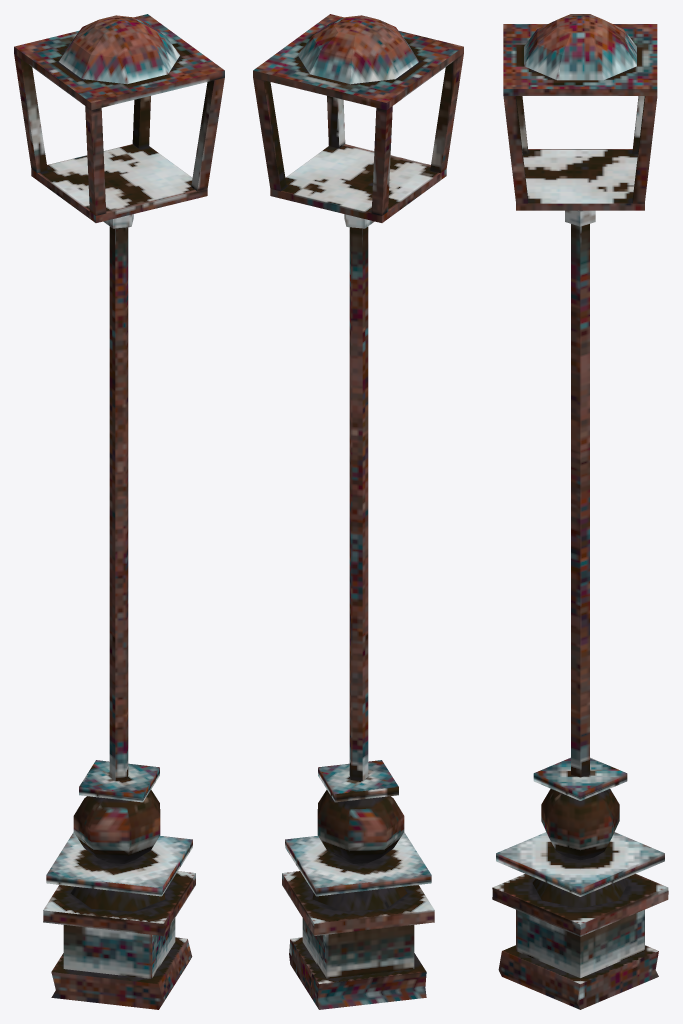
File: poste.glb
3 views of the same model, side by side, from view 1: azimuth 30°, elevation 25°; view 2: azimuth 150°, elevation 25°; view 3: azimuth 270°, elevation 25° (orthographic).
Parts seen in each view (by area): view 1: post_geo; view 2: post_geo; view 3: post_geo.
Part boxes in pixels (x1=…): post_geo: x1=14, y1=14, x2=224, y2=1009; post_geo: x1=253, y1=14, x2=463, y2=1009; post_geo: x1=492, y1=14, x2=668, y2=1009.
Bounding box in the file's own units: 0.4815 × 2.89 × 0.4815.
Materials: 1 (1 with a texture image).
